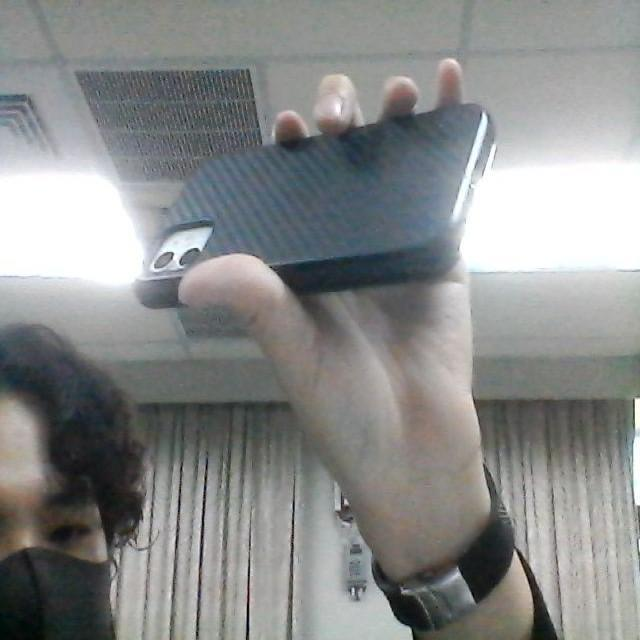Phone: (132, 104, 496, 307)
